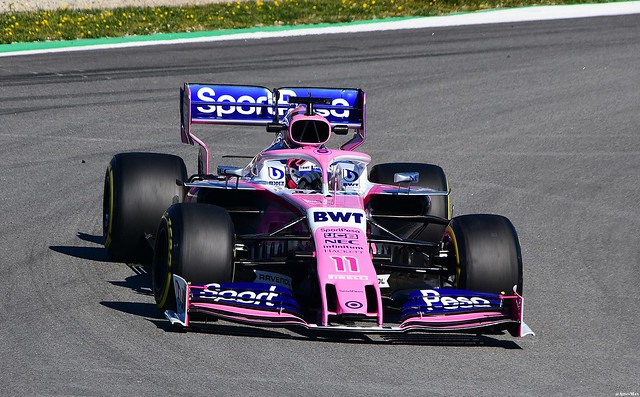F1 Car: (96, 79, 542, 353)
